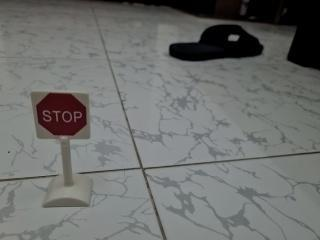stop: (23, 85, 97, 148)
